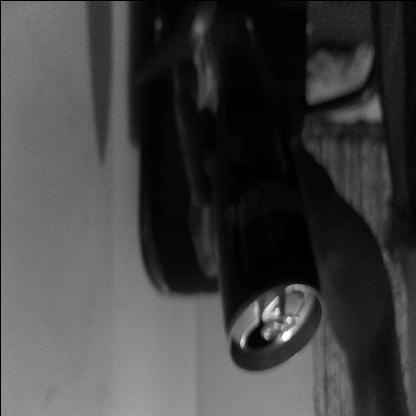alumunium_can: (192, 13, 324, 382)
